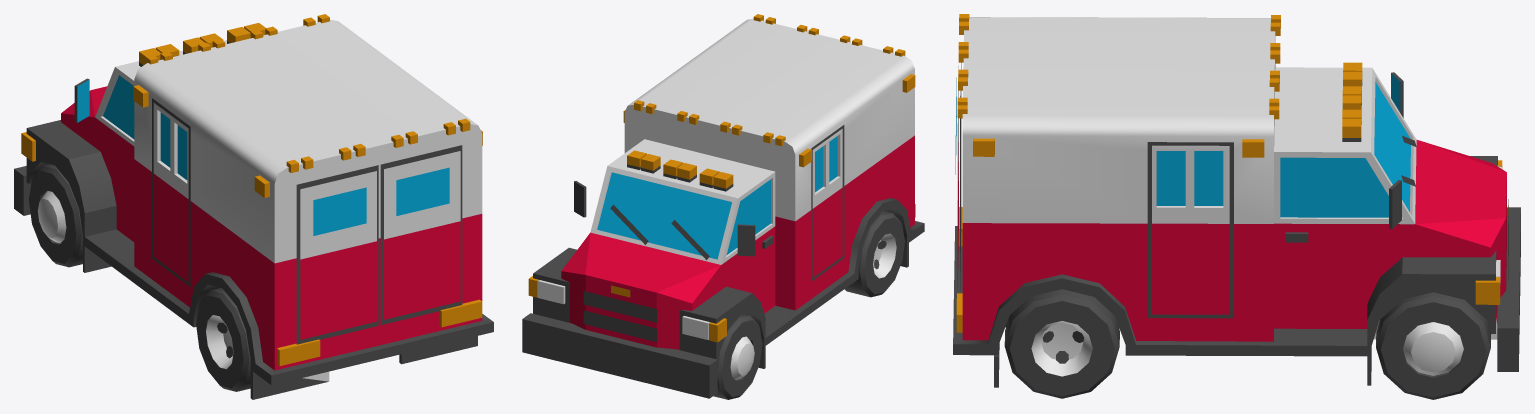
Rendered from ambulance.fbx.
3 views of the same model, side by side, from view 1: azimuth 30°, elevation 25°; view 2: azimuth 150°, elevation 25°; view 3: azimuth 270°, elevation 25° (orthographic). The views are drawn at different scales.
Parts seen in each view (by area): view 1: ambulance; view 2: ambulance; view 3: ambulance.
Boxes of the visible parts, box(x1,y1,x2,y2) form: ambulance: box(14, 14, 493, 399); ambulance: box(522, 14, 924, 399); ambulance: box(953, 14, 1520, 399).
Bounding box in the file's own units: 482 × 478 × 885.
